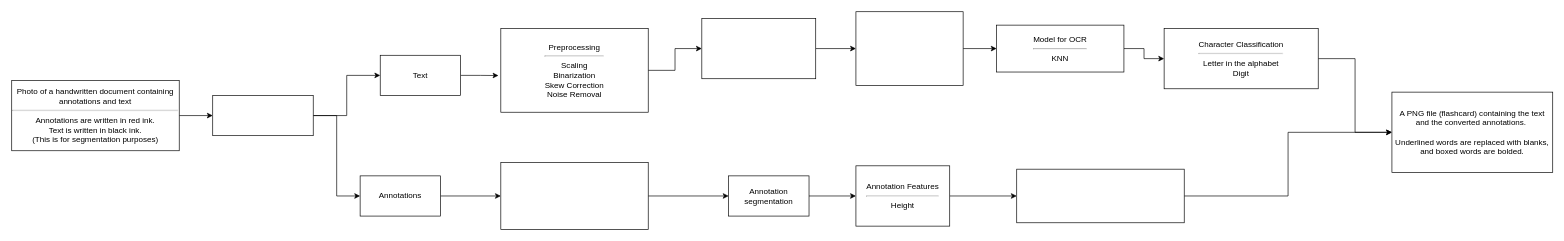
Some shapes in this 1564 by 241 pixel diagram are drawn without their labels. The centre of each missing label's shape, as x and y in pixels:
"Annotation Classification Underline Box" belongs at pixel 1100 196.
"Character Features Pixels" belongs at pixel 909 48.
"Preprocessing Binarization Noise Removal" belongs at pixel 574 195.
"Segmentation of Annotations and Text" belongs at pixel 262 115.
"Text segmentation Line Segmentation Word Segmentation Character Segmentation" belongs at pixel 758 48.
